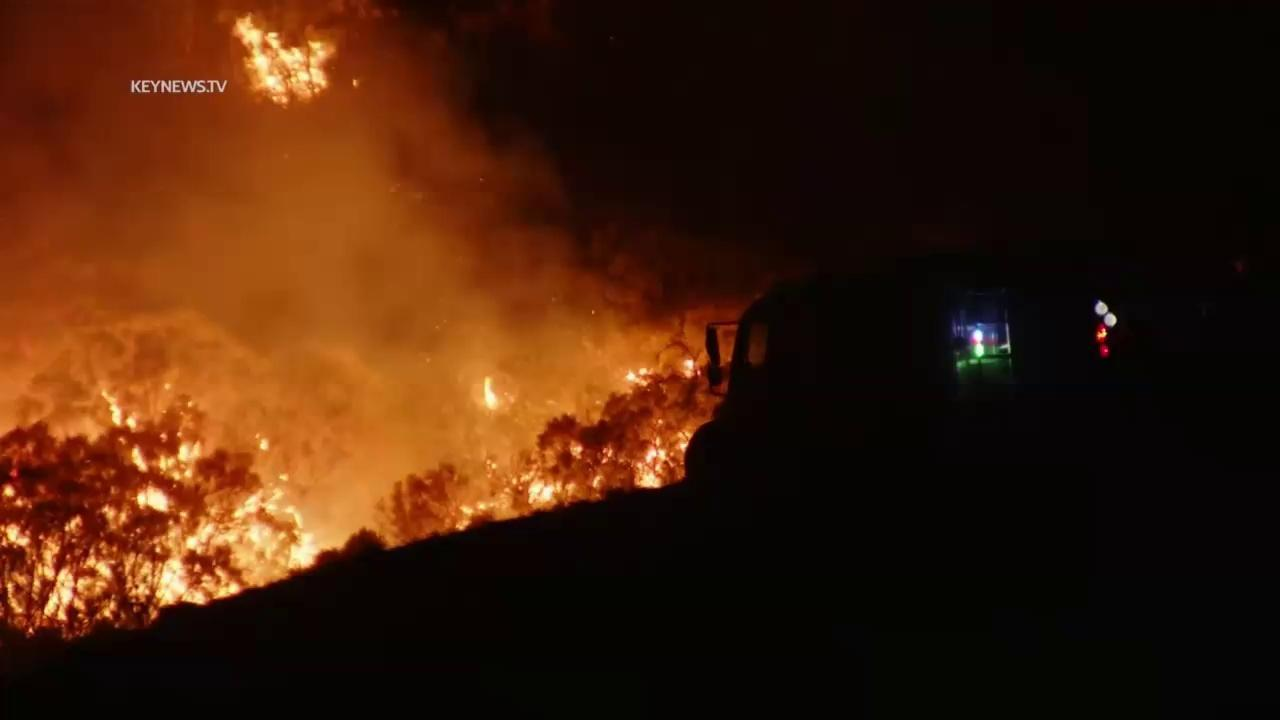fire: (0, 380, 321, 642), (224, 12, 337, 108), (454, 457, 578, 531), (630, 429, 694, 494), (479, 373, 501, 414), (622, 364, 654, 390), (679, 356, 703, 380), (599, 443, 616, 467), (592, 473, 608, 491), (564, 443, 585, 455)
smoke: (0, 0, 769, 555)
